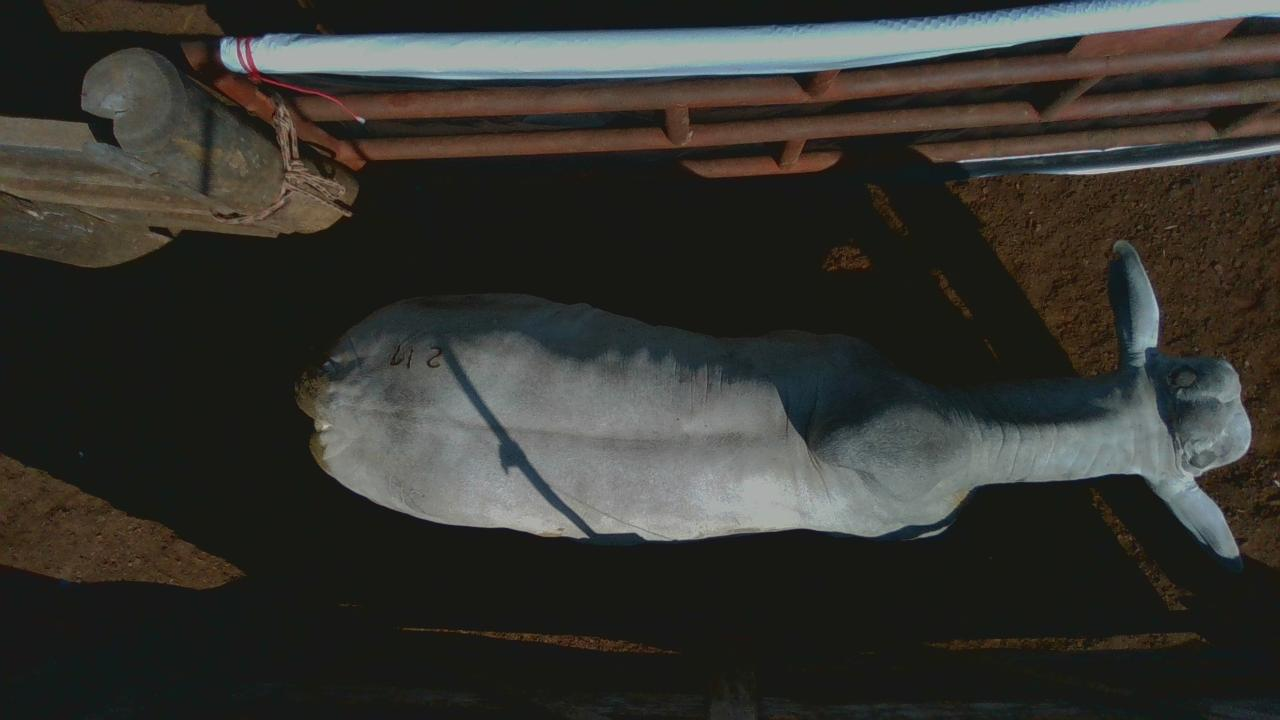cattle: (293, 237, 1252, 572)
